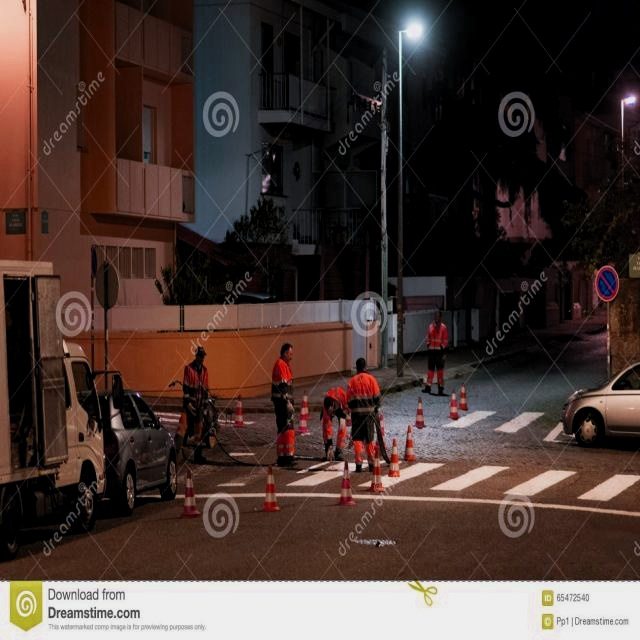Con_Chaleco: (349, 373, 376, 423), (271, 361, 294, 411)
Sin_Casco_Mascarrilla: (279, 343, 294, 361), (354, 358, 367, 374)
